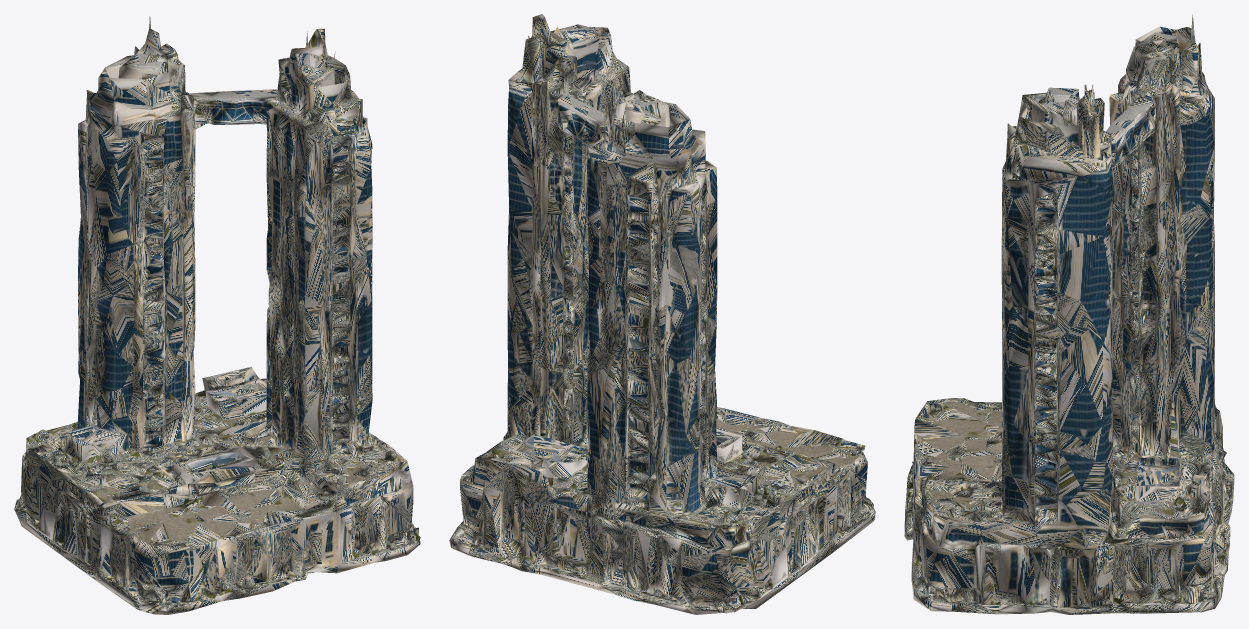
The model's file is tower_twin.glb.
The picture shows the model from 3 angles, left to right: view 1: azimuth 30°, elevation 25°; view 2: azimuth 150°, elevation 25°; view 3: azimuth 270°, elevation 25°; orthographic projection. The views are drawn at different scales.
Visible parts, largest first — view 1: Mesh_0; view 2: Mesh_0; view 3: Mesh_0.
Part boxes in pixels (box(x1,y1,x2,y2)): Mesh_0: box(14, 16, 420, 614); Mesh_0: box(449, 14, 875, 614); Mesh_0: box(904, 15, 1234, 614).
Bounding box in the file's own units: 96.06 × 150 × 86.45.
Materials: 1 (1 with a texture image).
